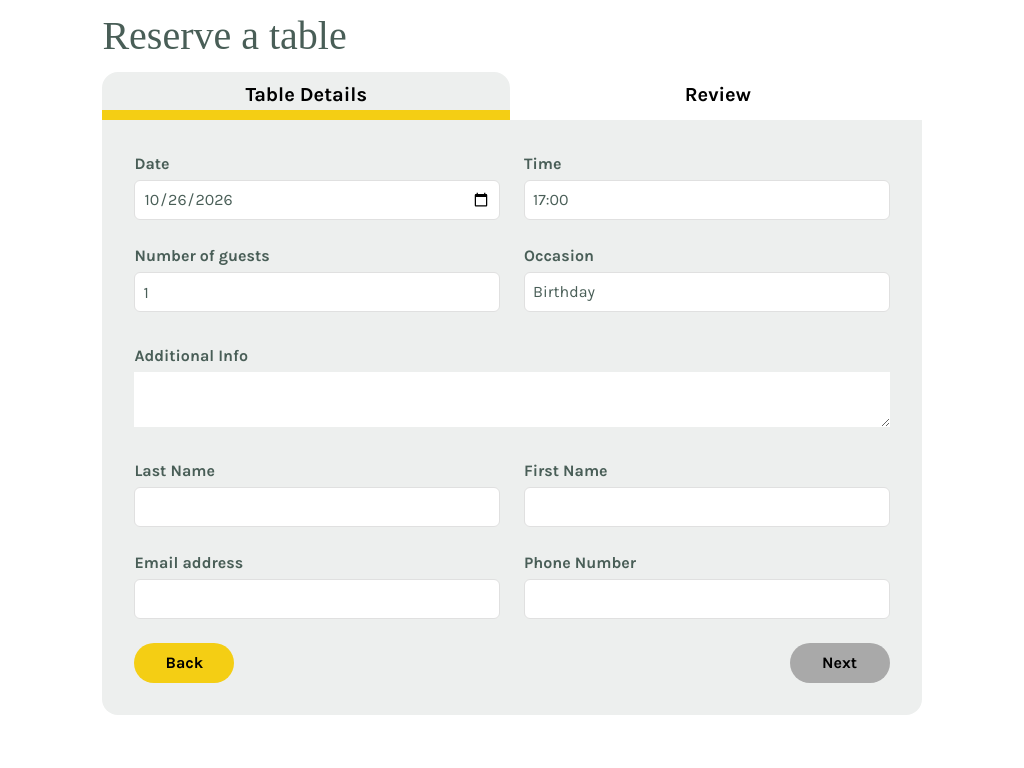
Test: Reservation form › should display an error message and disable Next HashLink when phone number field's value has not length of 10
This screenshot has width=1024, height=768.
Step 1. Type "9999" into the field labelled "Phone Number" → (707, 599), box 524,579 -> 890,619
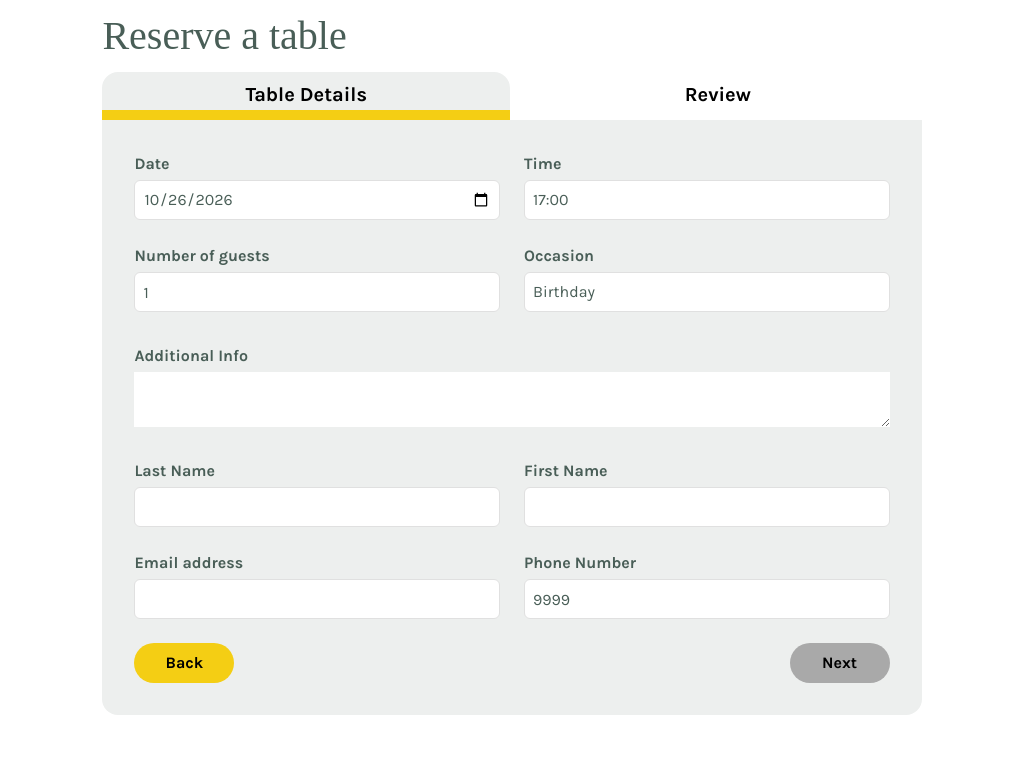
Step 2. Leave the field labelled "Phone Number", box 524,579 -> 890,619
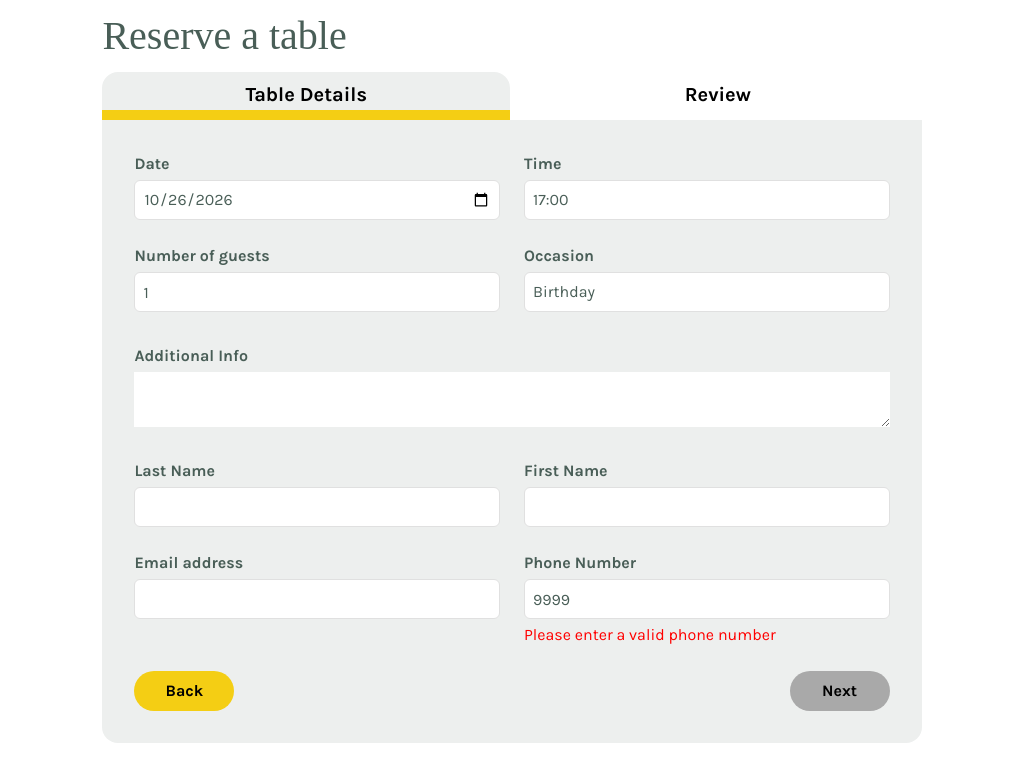
Check: the text with test id "error-message" reads "Please enter a valid phone number", box 524,625 -> 776,644
